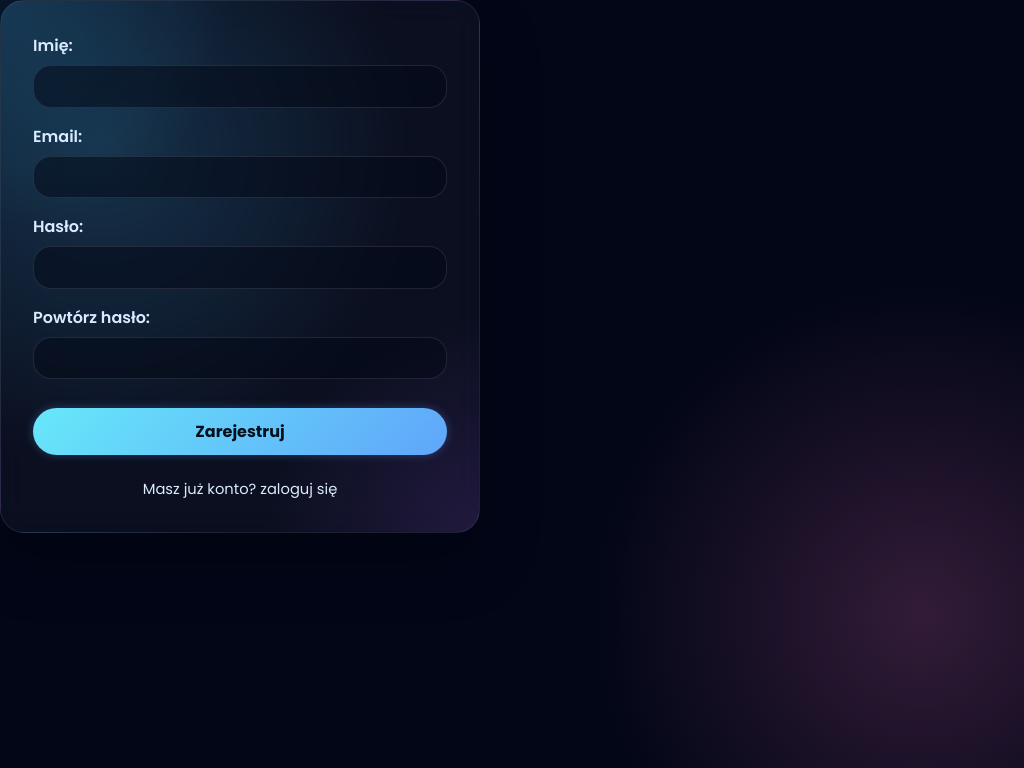
Scenario: RegistryForm › shows validation error for short password
Type "Jan" into the field labelled "Imię:".
click(240, 86); type("Jan")  # box 33,65 -> 447,108
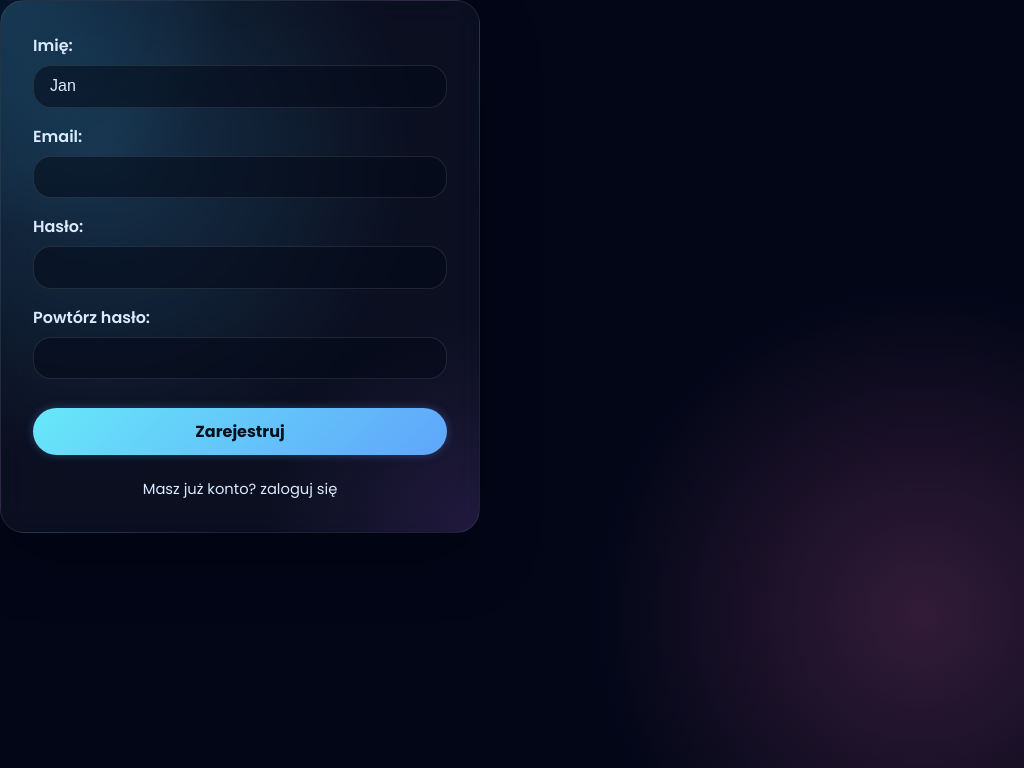
Type "jan@example.com" into the field labelled "Email:".
click(240, 177); type("jan@example.com")  # box 33,156 -> 447,198
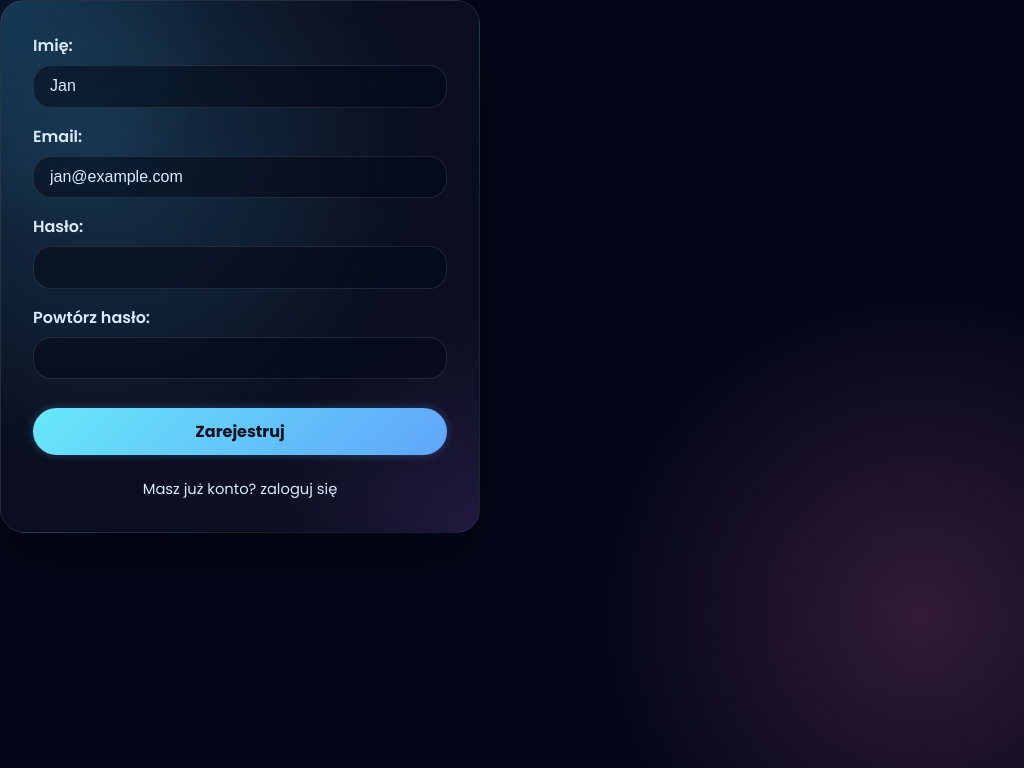
Type "abc" into the password field labelled "Hasło:".
click(240, 268); type("abc")  # box 33,246 -> 447,289
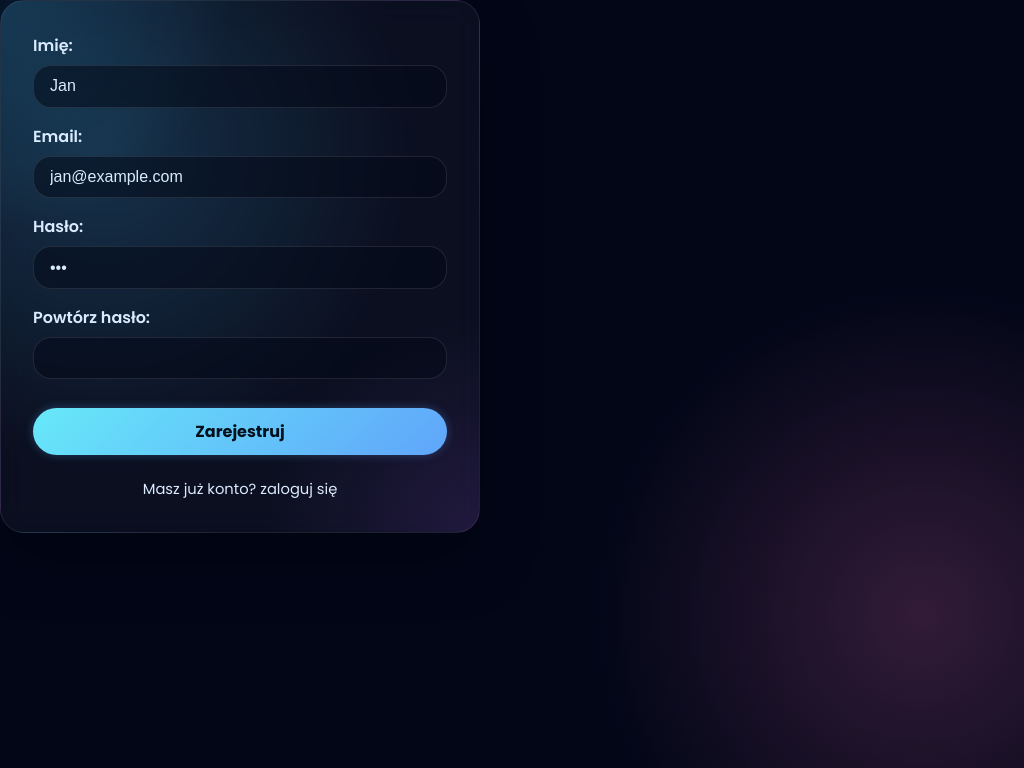
Type "abc" into the password field labelled "Powtórz hasło:".
click(240, 358); type("abc")  # box 33,337 -> 447,379
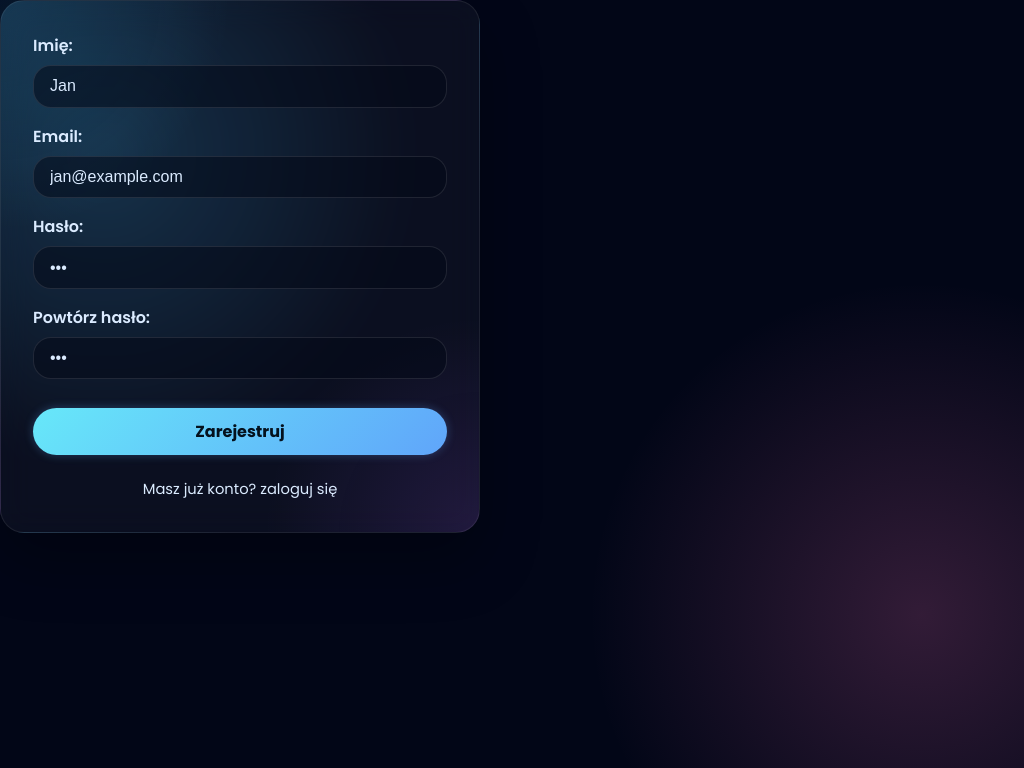
Click the button "Zarejestruj".
click(240, 432)  # box 33,408 -> 447,455
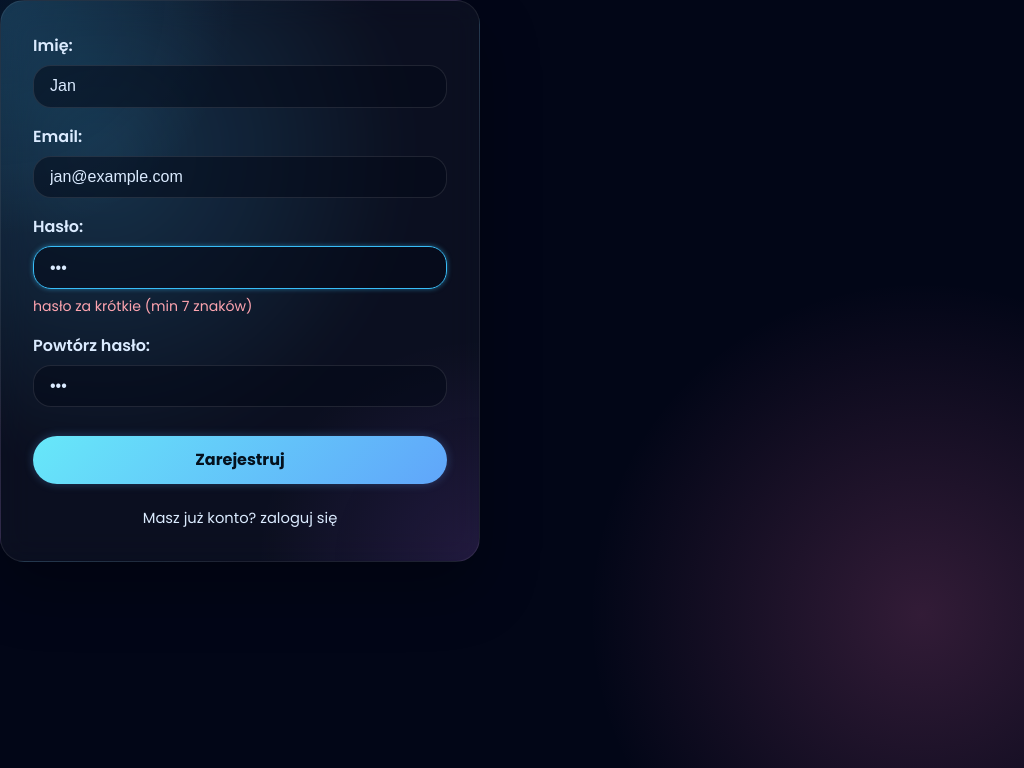
Result: the text "hasło za krótkie (min 7 znaków)" is shown at 33,296 -> 252,316
